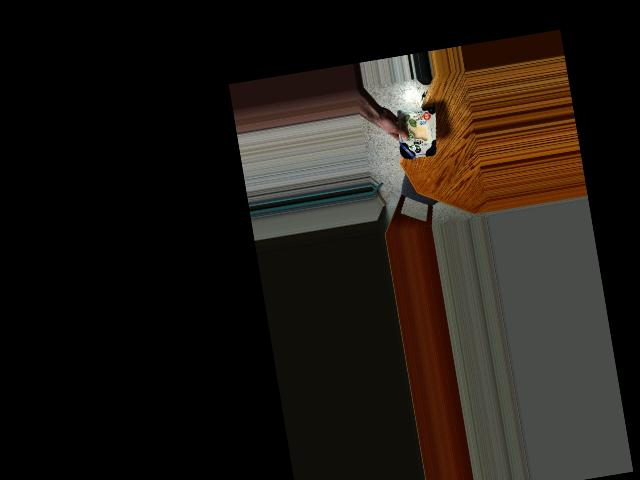cheese: (389, 96, 437, 167)
